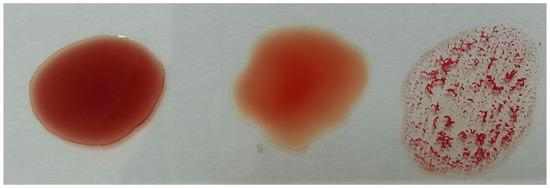D: (401, 23, 535, 176)
